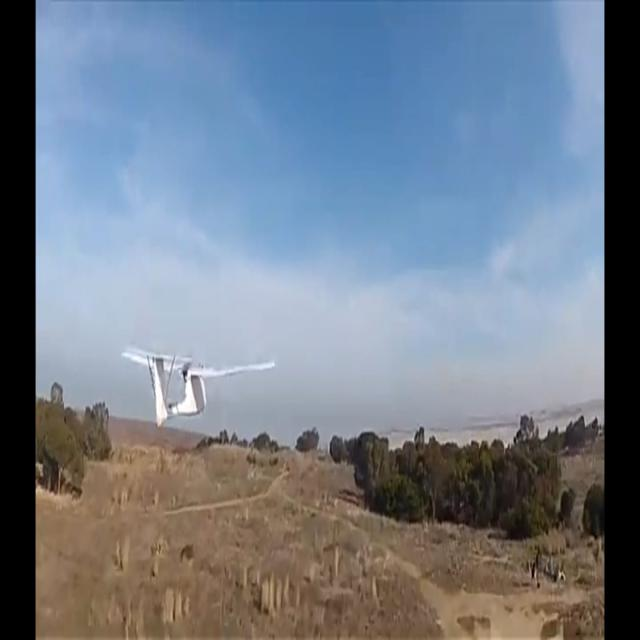iha: (114, 374, 271, 398)
